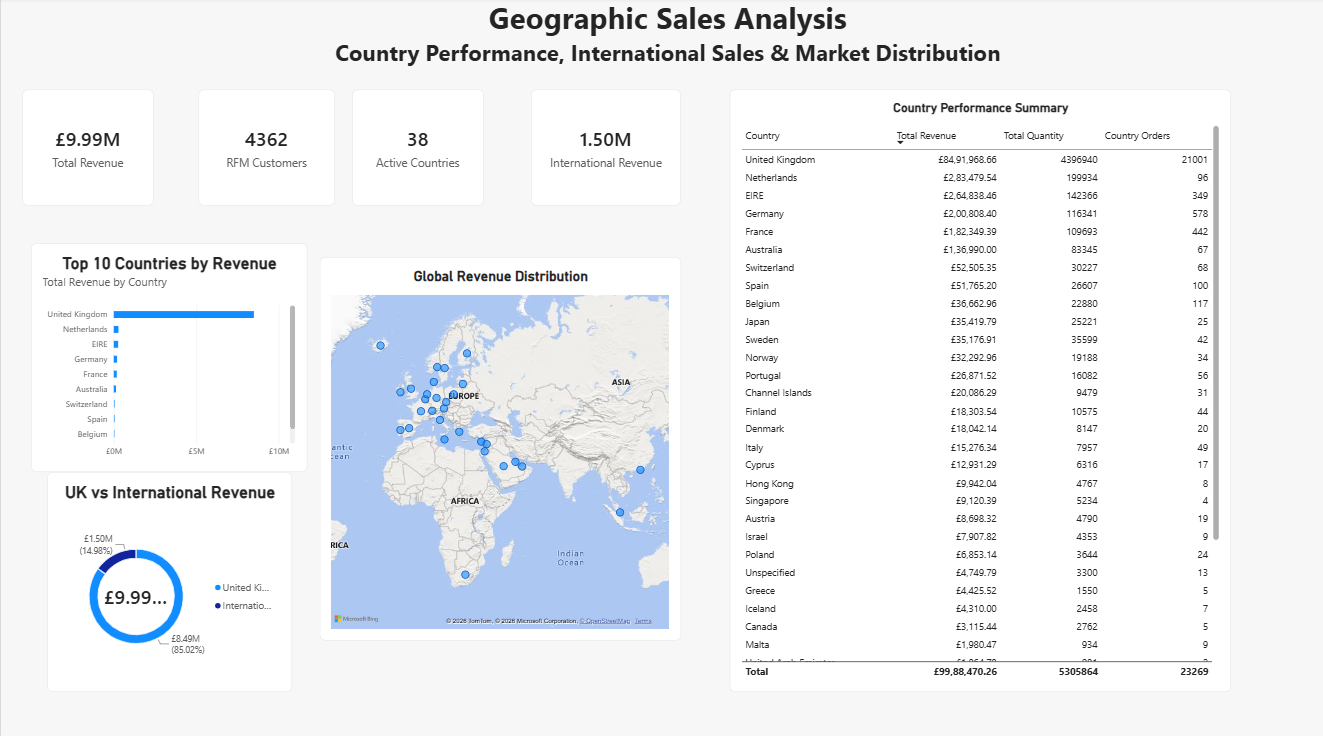

What the dashboard file says about the page in this screenshot:
{"tool":"powerbi","page":{"name":"Geography/Country Analysis","canvas":[1920,1080],"ordinal":3},"visuals":[{"type":"textbox","box":[10.9,0,1909.2,57.9],"z":0},{"type":"textbox","box":[10.9,57.9,1909.2,57.9],"z":1000},{"type":"card","fields":{"Values":["sales_clean.Total Revenue"]},"box":[30.8,133.9,190,168.3],"z":2000},{"type":"card","fields":{"Values":["customer_rfm.RFM Customers"]},"box":[285.9,133.9,197.3,168.3],"z":3000},{"type":"card","fields":{"Values":["country_summary.Active Countries"]},"box":[508.5,133.9,190,168.3],"z":4000},{"type":"card","fields":{"Values":["sales_clean.International Revenue"]},"box":[767.3,133.9,217.2,168.3],"z":5000},{"type":"clusteredBarChart","title":"Top 10 Countries by Revenue","fields":{"Category":["country_summary.Country"],"Y":["sales_clean.Total Revenue"]},"box":[43.4,356.5,399.9,331.2],"z":7000},{"type":"map","title":"Global Revenue Distribution","fields":{"Category":["country_summary.Country"]},"box":[461.5,376.4,523,555.6],"z":7002},{"type":"donutChart","title":"UK vs International Revenue","fields":{"Category":["sales_clean.Market"],"Y":["sales_clean.Total Revenue"]},"box":[67,687.7,354.7,318.5],"z":7003},{"type":"tableEx","title":"Country Performance Summary","fields":{"Values":["sales_clean.Country","sales_clean.Total Revenue","sales_clean.Total Quantity","sales_clean.Country Orders"]},"box":[1055,133.9,725.7,872.3],"z":7004}]}

Visuals, with their boxes in screenshot pixels (x1, y1, x2, y2), scaled from the page's 1920x1080 canvas onto the 1323x736 screenshot:
textbox: Rect(8, 0, 1322, 39)
textbox: Rect(8, 39, 1322, 79)
card - sales_clean.Total Revenue: Rect(21, 91, 152, 206)
card - customer_rfm.RFM Customers: Rect(197, 91, 333, 206)
card - country_summary.Active Countries: Rect(350, 91, 481, 206)
card - sales_clean.International Revenue: Rect(529, 91, 678, 206)
"Top 10 Countries by Revenue" clusteredBarChart: Rect(30, 243, 305, 469)
"Global Revenue Distribution" map: Rect(318, 257, 678, 635)
"UK vs International Revenue" donutChart: Rect(46, 469, 291, 686)
"Country Performance Summary" tableEx: Rect(727, 91, 1227, 686)
